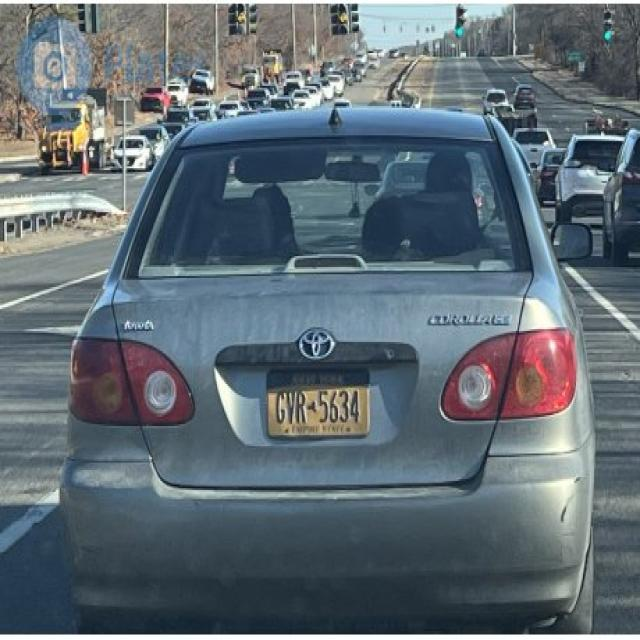license: (263, 363, 377, 445)
